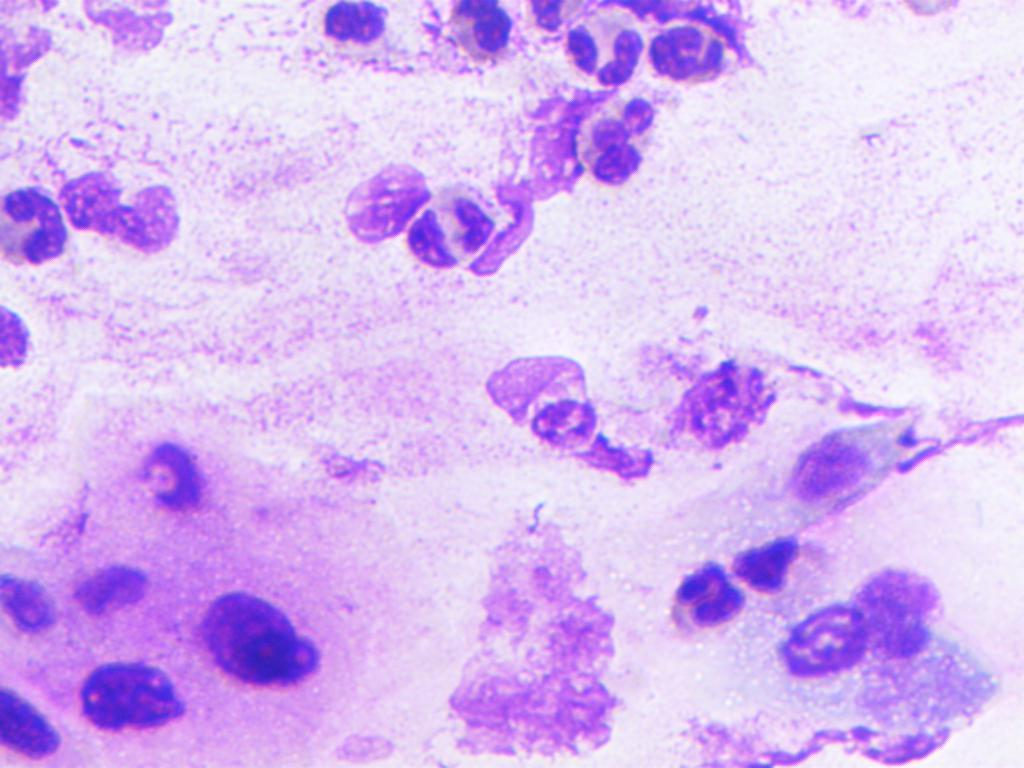epithelial: (193, 577, 354, 716), (73, 651, 198, 734)
neutrophil: (577, 90, 674, 198), (409, 190, 506, 271), (648, 20, 751, 96), (565, 6, 658, 90), (669, 558, 754, 644), (733, 530, 813, 608), (3, 182, 68, 266), (447, 2, 521, 60), (312, 0, 390, 48)
